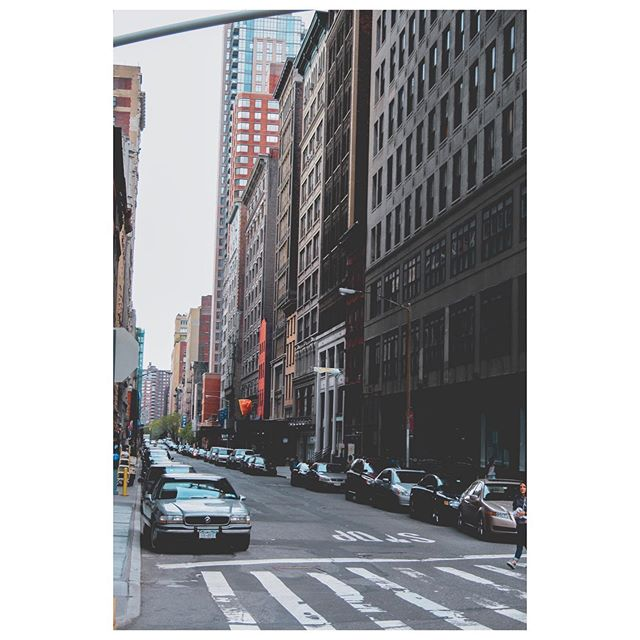building: (353, 12, 523, 502), (214, 15, 318, 398), (296, 24, 374, 457), (243, 63, 309, 421), (171, 307, 211, 414)
car: (141, 467, 258, 557), (456, 477, 534, 553), (415, 469, 464, 524), (369, 463, 418, 511), (308, 453, 347, 494)
crosswalk: (133, 553, 527, 629)
sky: (139, 22, 213, 302)
street: (134, 459, 528, 627)
